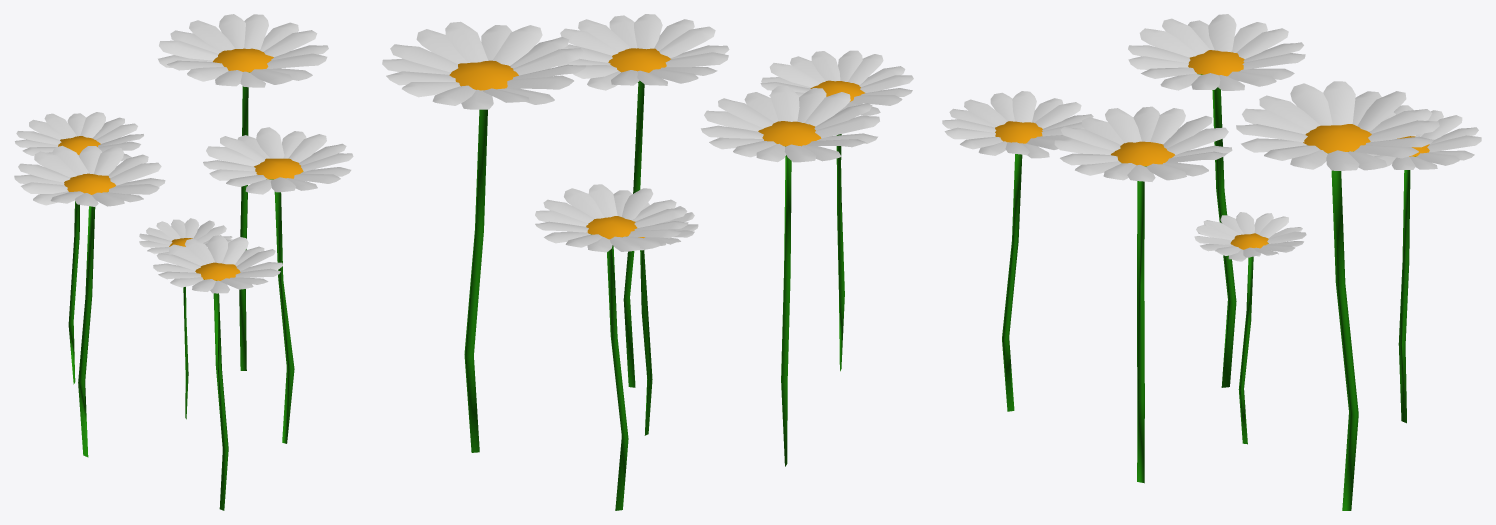
The model's file is SM_Camomile_001_LOD1.fbx.
3 renders of one model, left to right at view 1: azimuth 30°, elevation 25°; view 2: azimuth 150°, elevation 25°; view 3: azimuth 270°, elevation 25°, orthographic. The views are drawn at different scales.
Visible parts, largest first — view 1: Plane.018; view 2: Plane.018; view 3: Plane.018.
Boxes of the visible parts, x1,y1,x2,y2 form: Plane.018: (14,14,353,510); Plane.018: (382,14,913,510); Plane.018: (942,14,1481,510).
Size of the model in its own units: 37.48 by 33.89 by 43.1.
